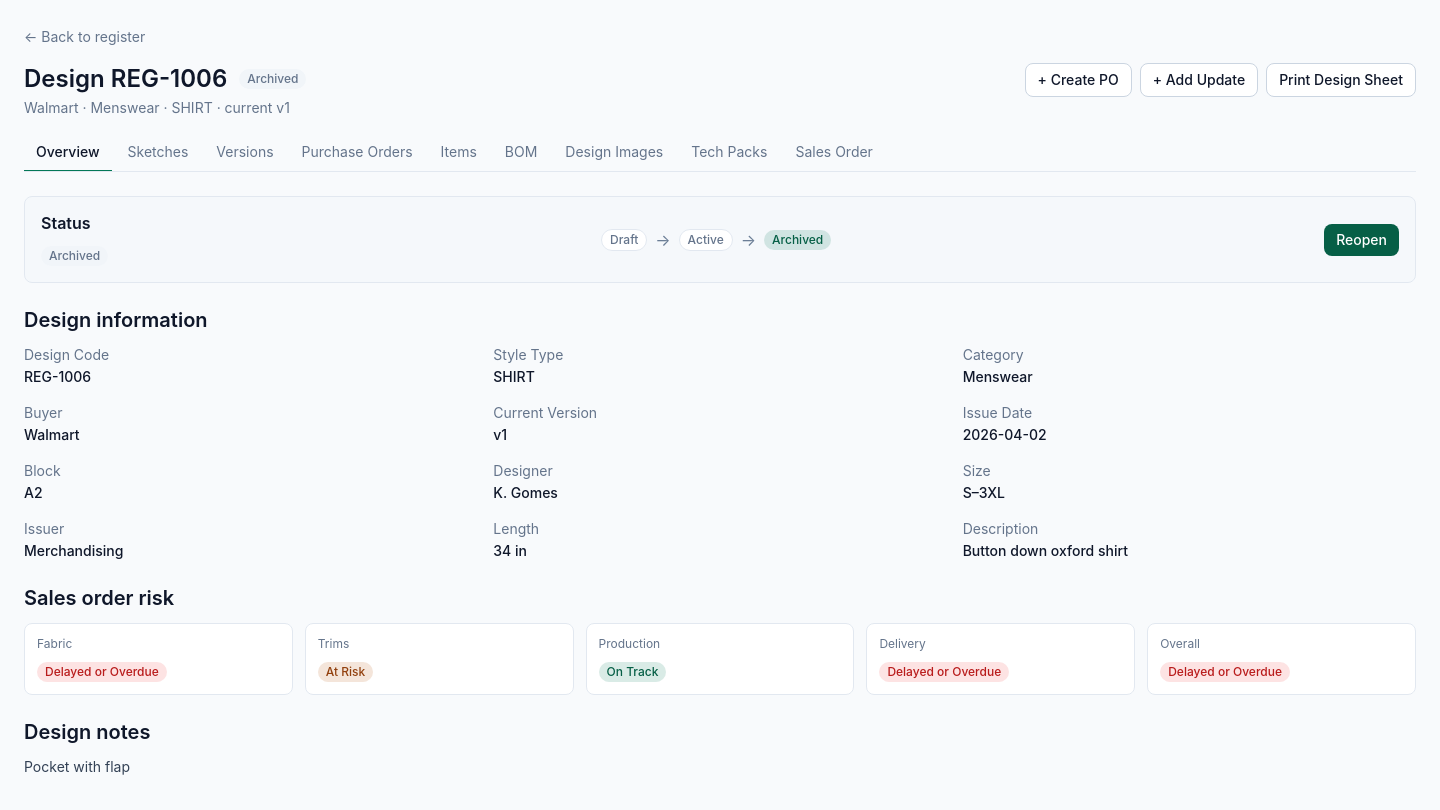
DesignDetailPage — Overview tab › reopens an archived design via the status wizard
Check: the heading "Design REG-1006" is shown, box x1=24 y1=63 x2=227 y2=94
Click the button "Reopen" at (1362, 240), box x1=1324 y1=224 x2=1399 y2=256
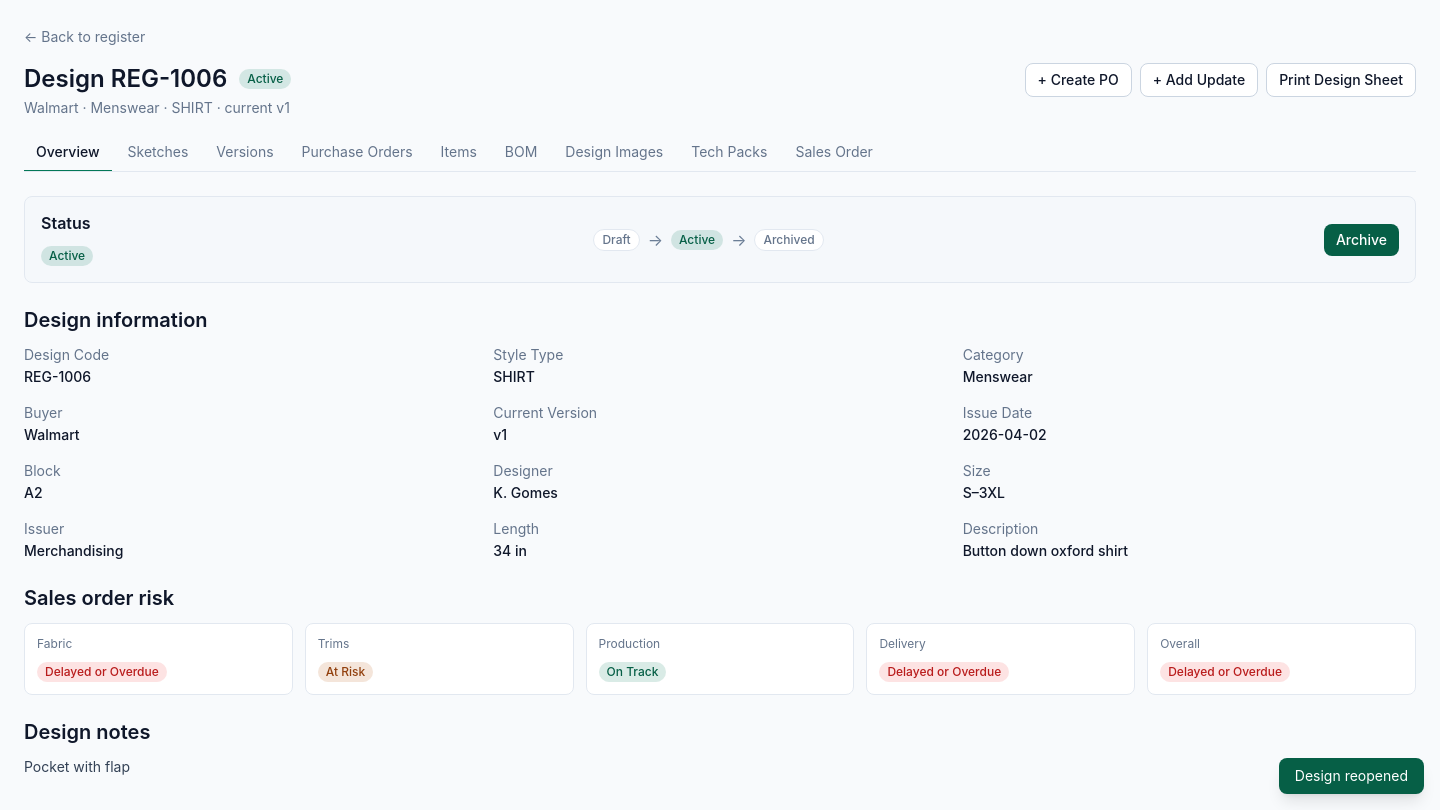
Check: the text "Design reopened" is shown, box x1=1279 y1=758 x2=1424 y2=794
